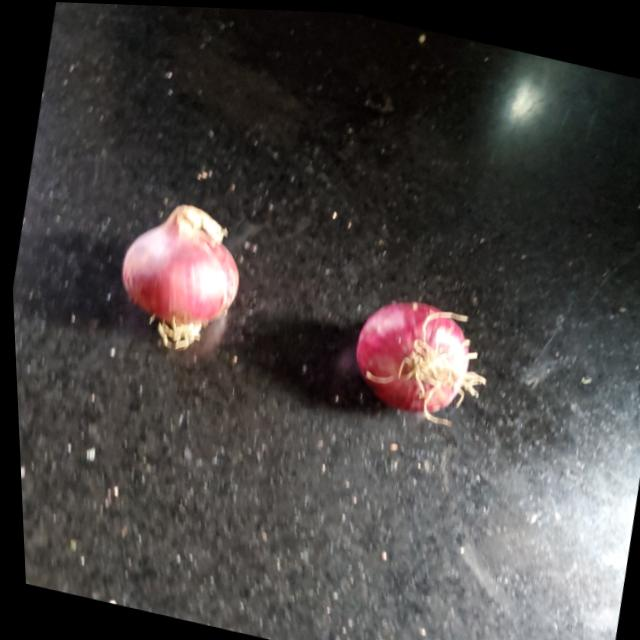onion: (105, 189, 249, 351), (340, 286, 476, 418)
